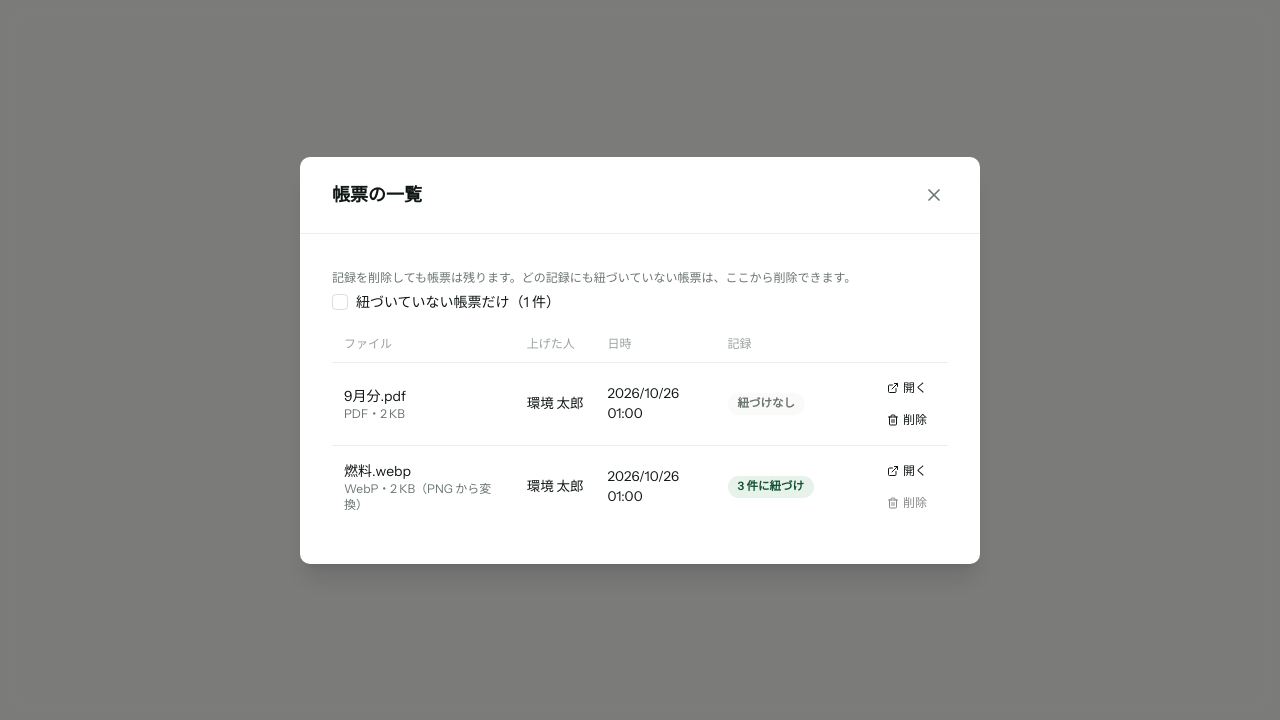
Test: EvidenceListModal › 「紐づいていない帳票だけ」で絞り込める
Click the checkbox at (340, 302), box [332, 294, 348, 310]
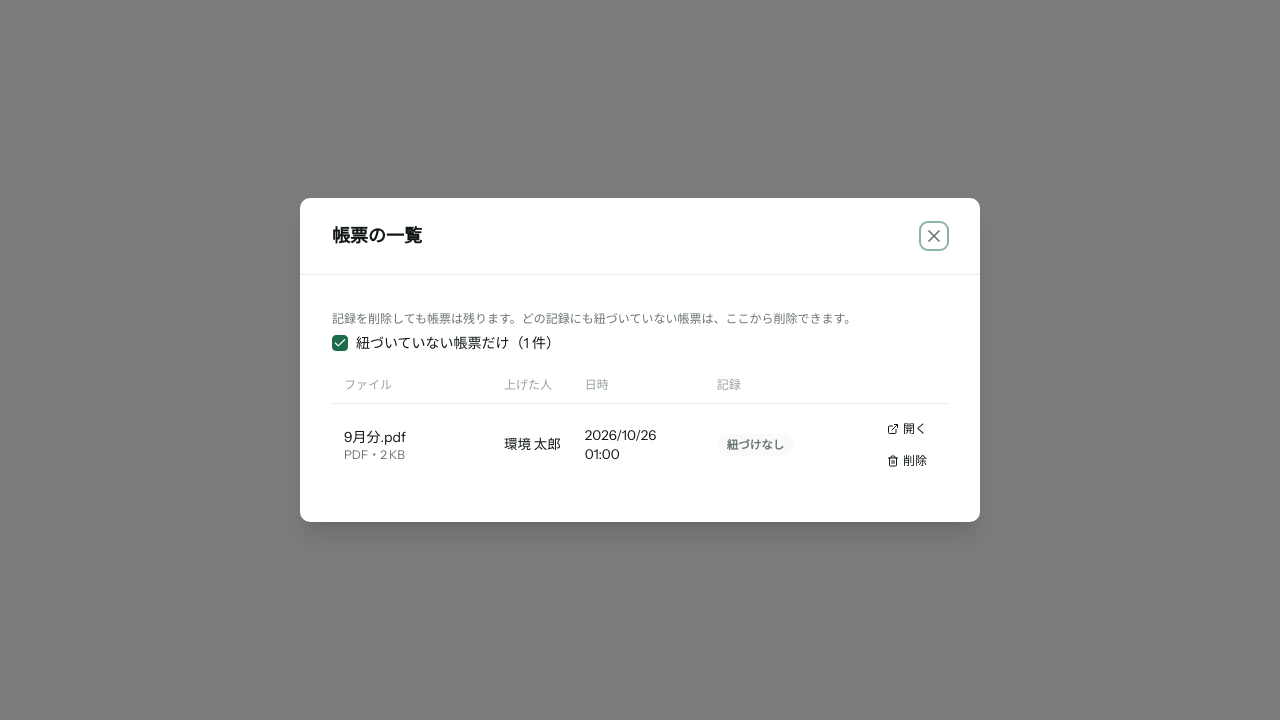
Expected: the text "9月分.pdf" is shown, [344, 428, 406, 446]
Now the text "燃料.webp" is gone
